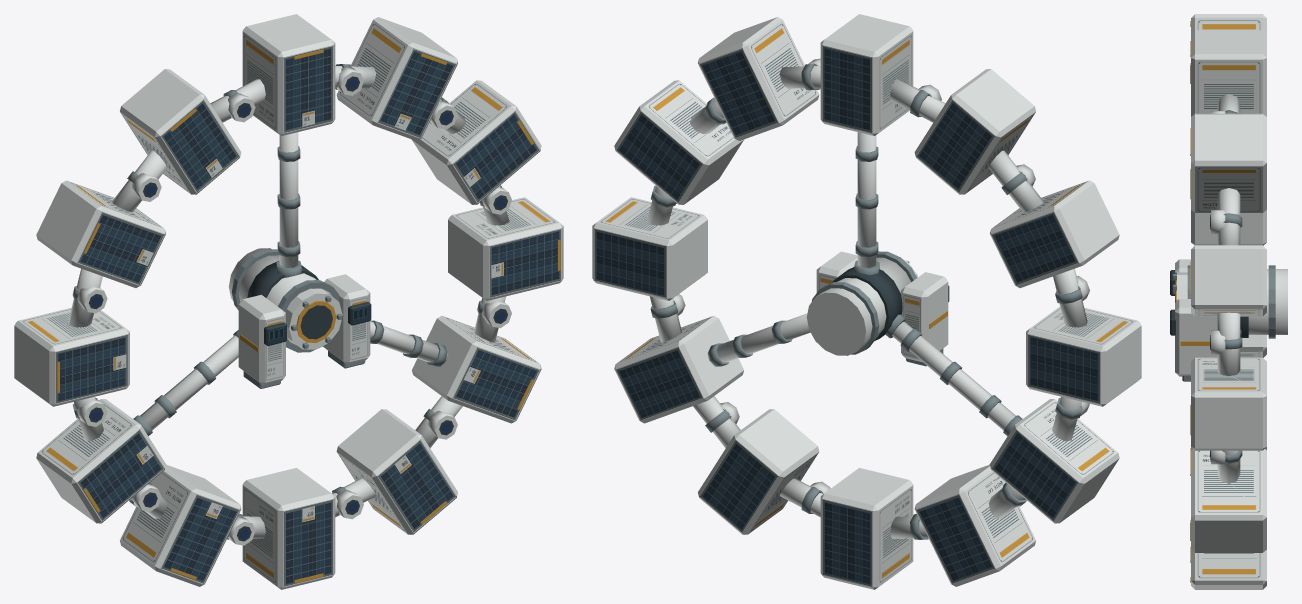
The model's file is Space_Station_LOD1.glb.
3 renders of one model, left to right at view 1: azimuth 30°, elevation 25°; view 2: azimuth 150°, elevation 25°; view 3: azimuth 270°, elevation 25°, orthographic. The views are drawn at different scales.
Visible parts, largest first — view 1: Habitat_Ring.001, Station_Core.001; view 2: Habitat_Ring.001, Station_Core.001; view 3: Habitat_Ring.001, Station_Core.001.
Part boxes in pixels (x1,y1,x2,y2): Habitat_Ring.001: (14,14,563,589); Station_Core.001: (228,248,371,388); Habitat_Ring.001: (592,14,1141,589); Station_Core.001: (806,251,949,366); Habitat_Ring.001: (1190,14,1266,589); Station_Core.001: (1170,259,1287,381).
Size of the model in its own units: 12.45 by 12.45 by 2.56.
1 material, 1 textured.
